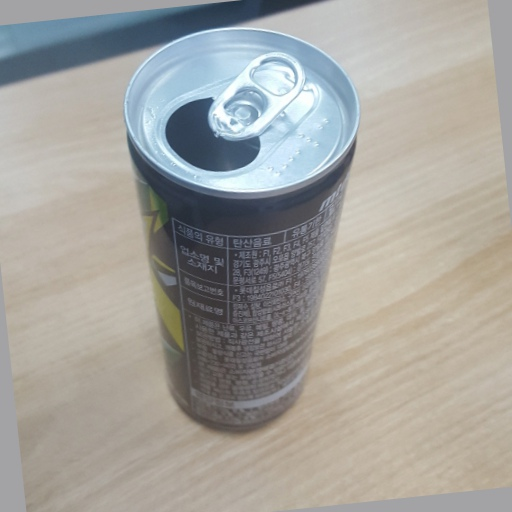Metal_0: (123, 27, 361, 434)
